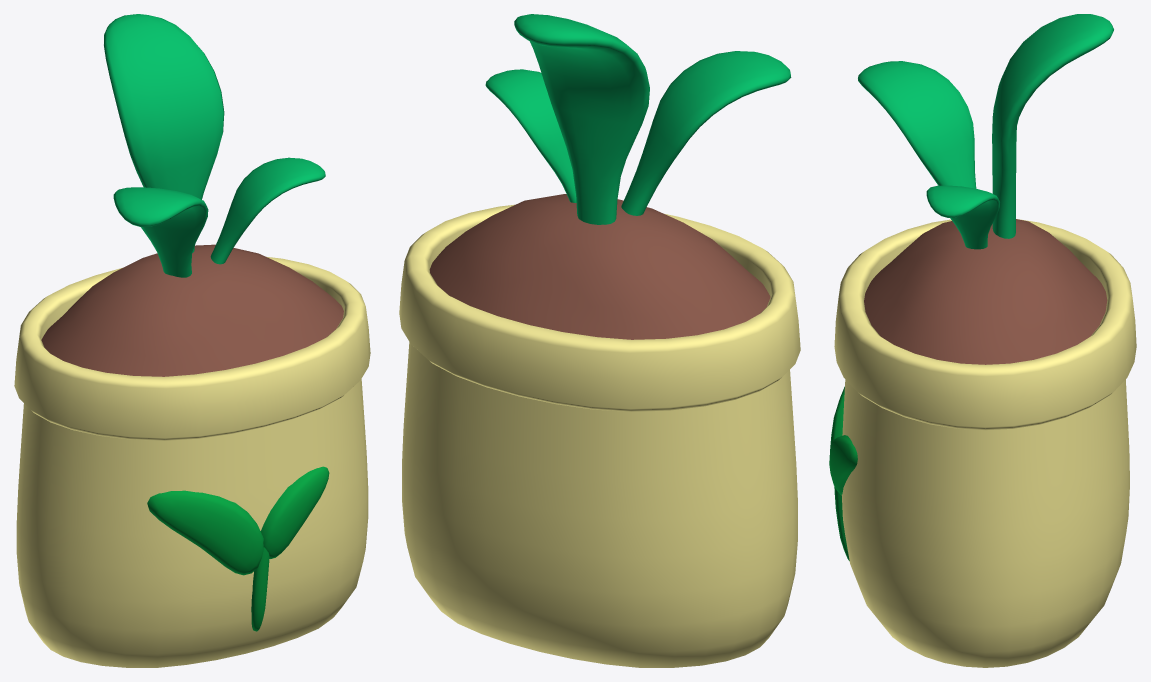
File: Farm_15_Bag_with_Plant_3.glb
The picture shows the model from 3 angles, left to right: view 1: azimuth 30°, elevation 25°; view 2: azimuth 150°, elevation 25°; view 3: azimuth 270°, elevation 25°; orthographic projection. The views are drawn at different scales.
Visible parts, largest first — view 1: Farm_15_Bag_with_Plant_3; view 2: Farm_15_Bag_with_Plant_3; view 3: Farm_15_Bag_with_Plant_3.
Part boxes in pixels (left/top/right/bottom): Farm_15_Bag_with_Plant_3: left=14, top=14, right=370, bottom=667; Farm_15_Bag_with_Plant_3: left=399, top=14, right=800, bottom=667; Farm_15_Bag_with_Plant_3: left=829, top=14, right=1136, bottom=667.
Size of the model in its own units: 0.7053 by 1.18 by 0.5653.
Materials: 1 (1 with a texture image).
